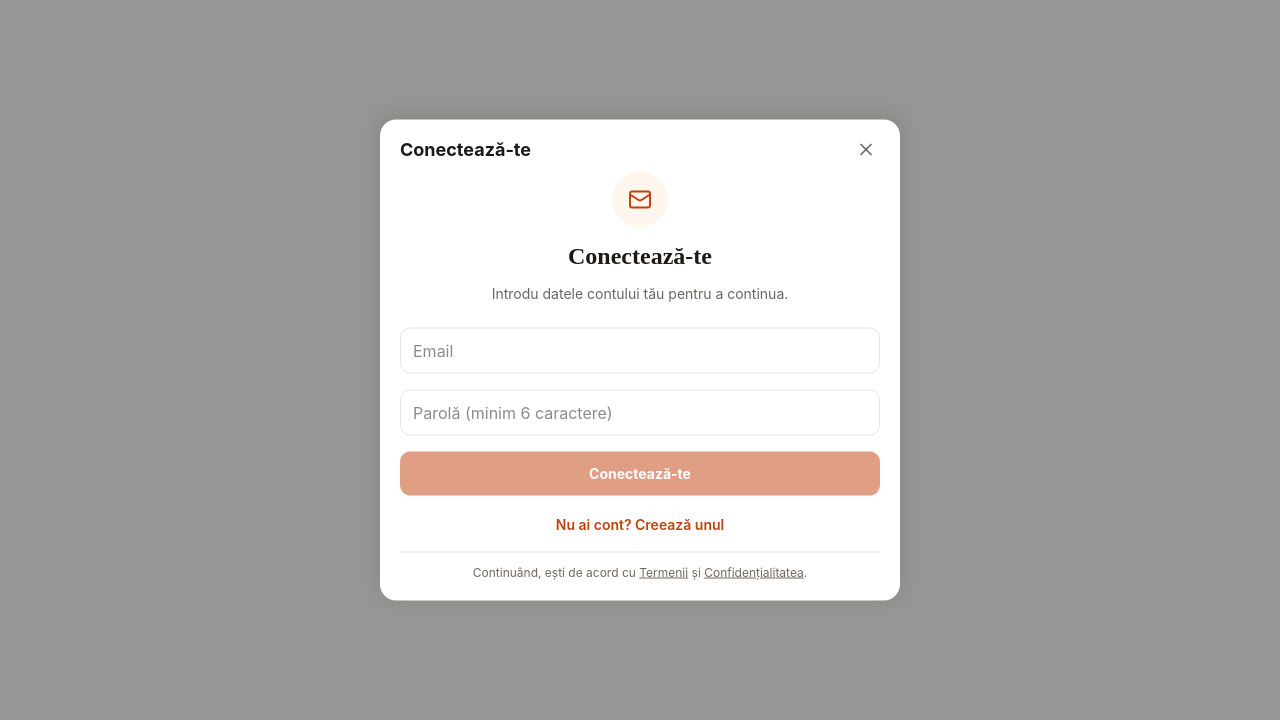
Test case: AuthSheet › still reports check-your-email for an address that is already taken
The width and height of the screenshot is (1280, 720).
Click the button "Nu ai cont? Creează unul" at (640, 524), box [556,514,724,534]
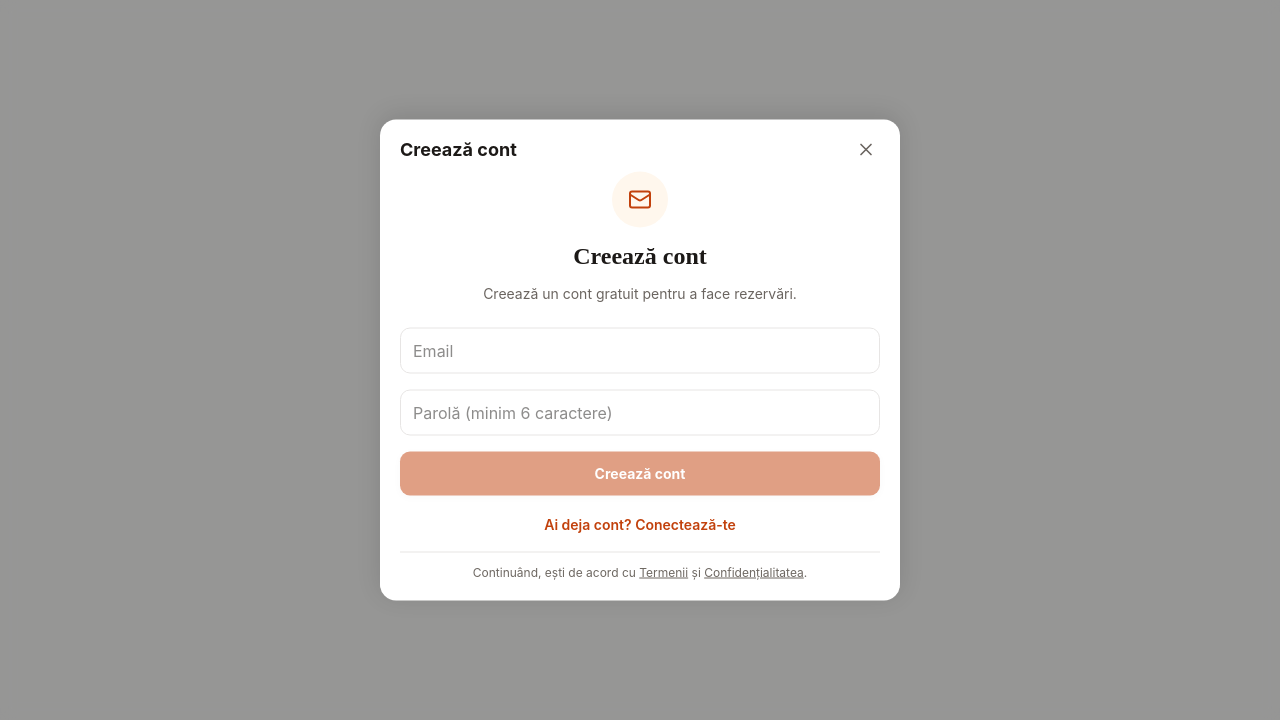
Type "taken@test.com" into the field labelled "Email" at (640, 350), box [400,328,880,374]
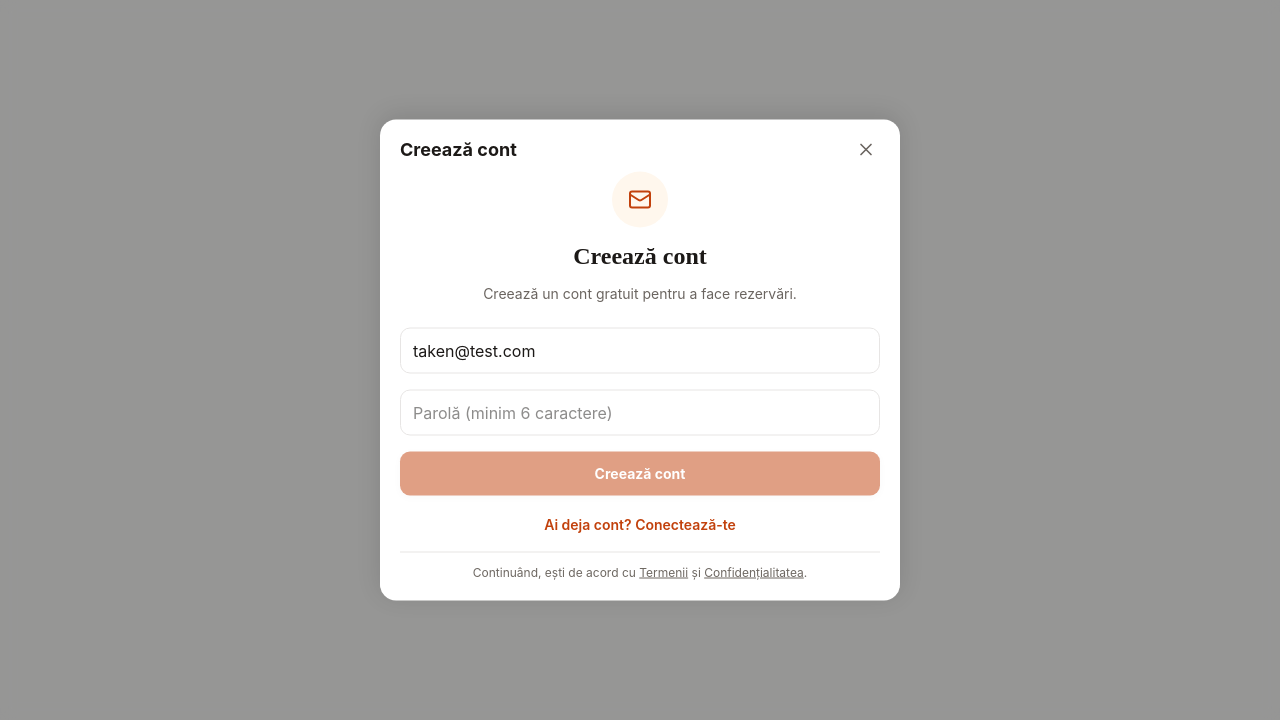
Type "secret123" into the password field labelled "Parolă" at (640, 412), box [400,390,880,436]
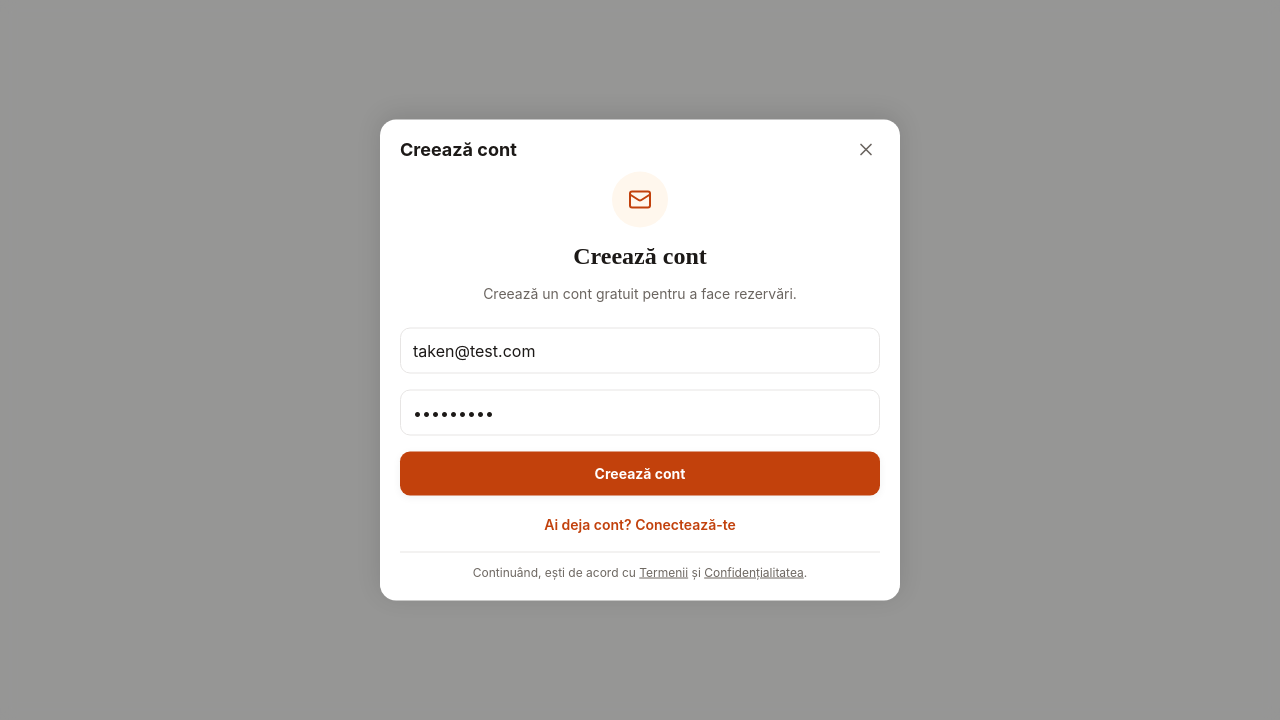
Click the button "Creează cont" at (640, 474), box [400,452,880,496]
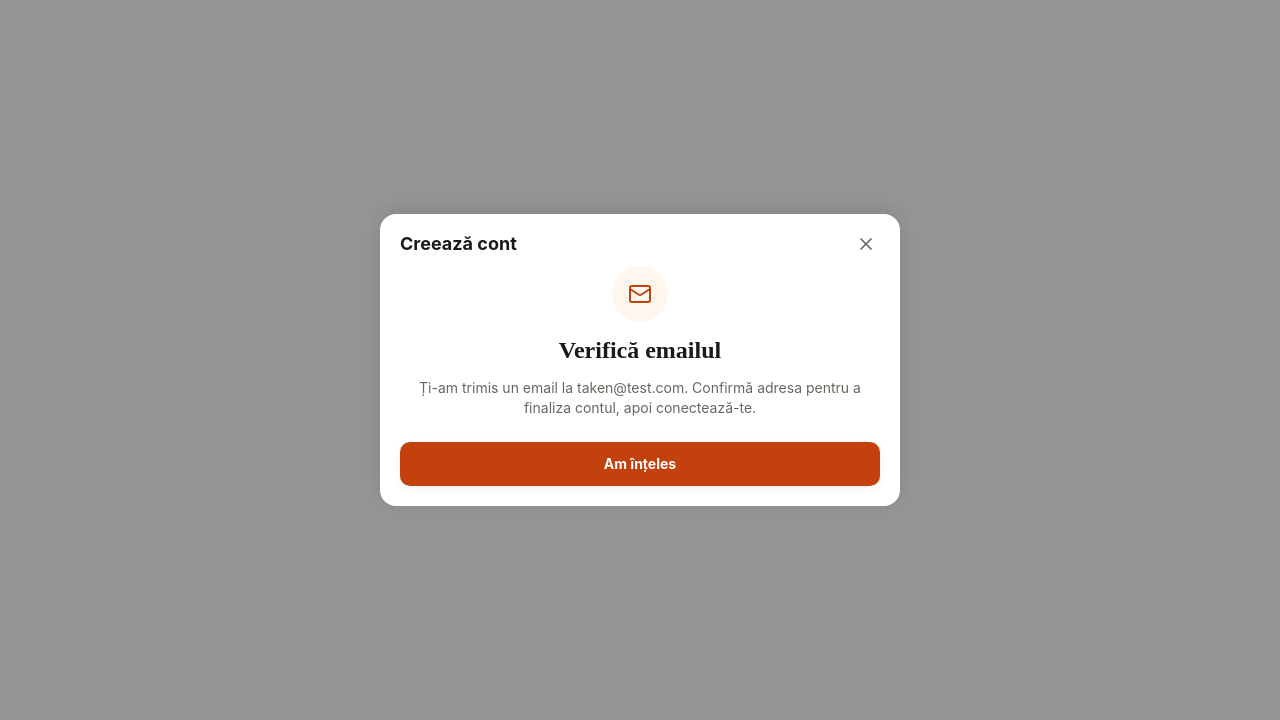
Now the text "Ți-am trimis un email" is shown, box [419,379,861,416]
